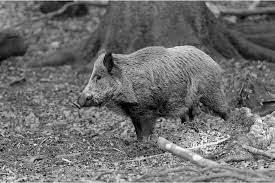wildboar: (69, 42, 237, 145)
